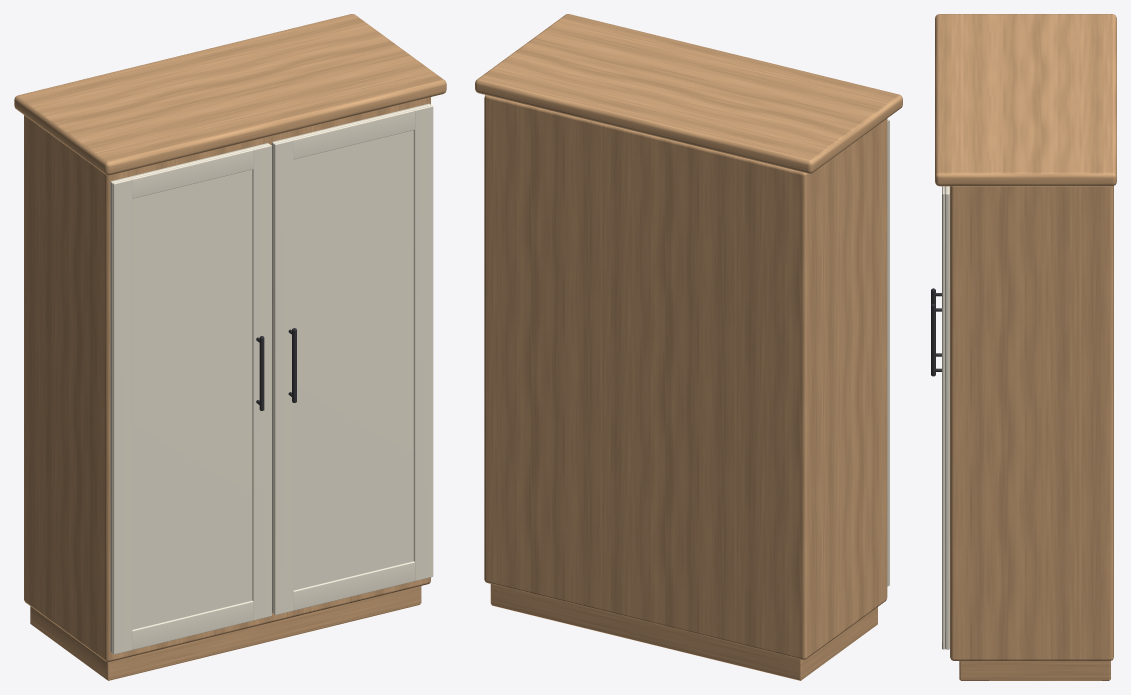
File: prop_wardrobe.glb
3 renders of one model, left to right at view 1: azimuth 30°, elevation 25°; view 2: azimuth 150°, elevation 25°; view 3: azimuth 270°, elevation 25°, orthographic. The views are drawn at different scales.
Visible parts, largest first — view 1: prop_wardrobe; view 2: prop_wardrobe; view 3: prop_wardrobe.
Boxes of the visible parts, <box> form: prop_wardrobe: <box>14,14,446,680</box>; prop_wardrobe: <box>475,14,902,680</box>; prop_wardrobe: <box>931,14,1116,680</box>.
Bounding box in the file's own units: 1.58 × 2.34 × 0.7662.
3 materials, 1 textured.
